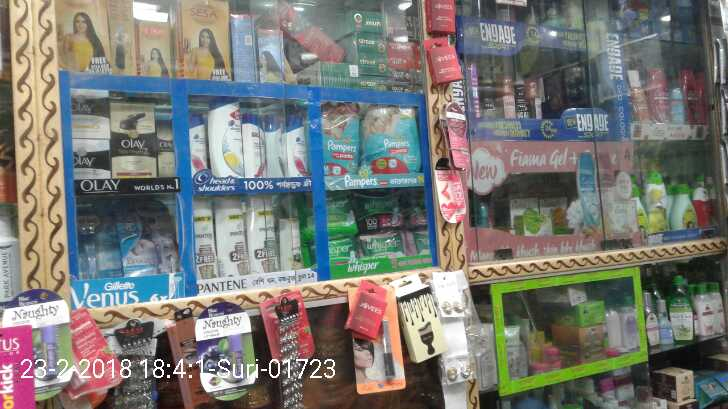venus: (117, 195, 179, 273), (76, 195, 117, 283)
